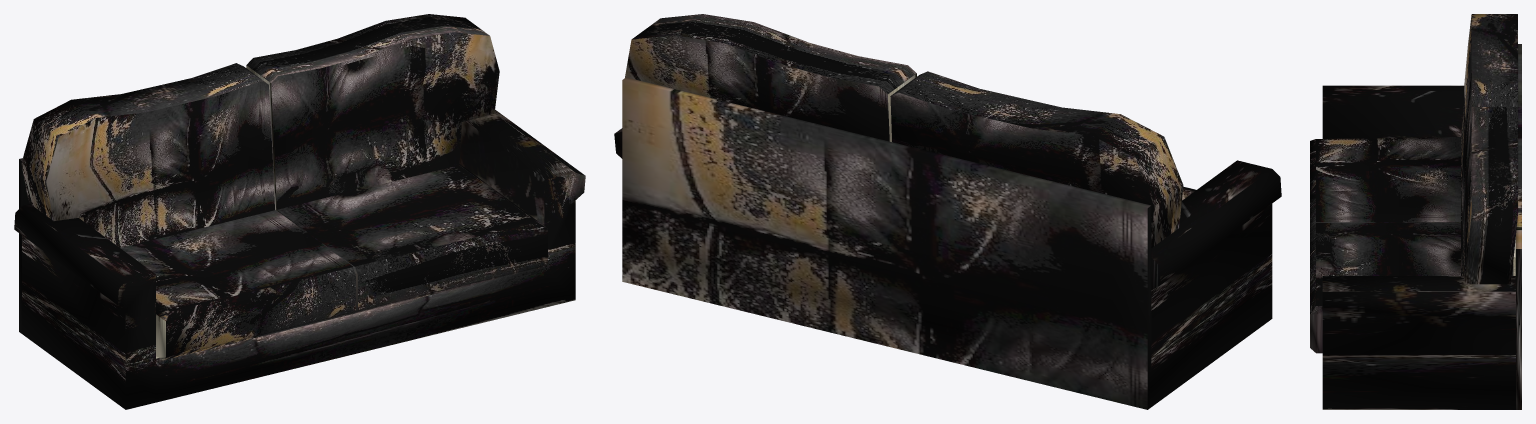
File: casting_couch.FBX
The picture shows the model from 3 angles, left to right: view 1: azimuth 30°, elevation 25°; view 2: azimuth 150°, elevation 25°; view 3: azimuth 270°, elevation 25°; orthographic projection. The views are drawn at different scales.
Parts seen in each view (by area): view 1: Box002; view 2: Box002; view 3: Box002.
Part boxes in pixels (bbox=[...]): Box002: bbox=[14, 14, 585, 409]; Box002: bbox=[614, 14, 1281, 409]; Box002: bbox=[1310, 14, 1521, 409].
Bounding box in the file's own units: 144 × 65.64 × 60.47.
